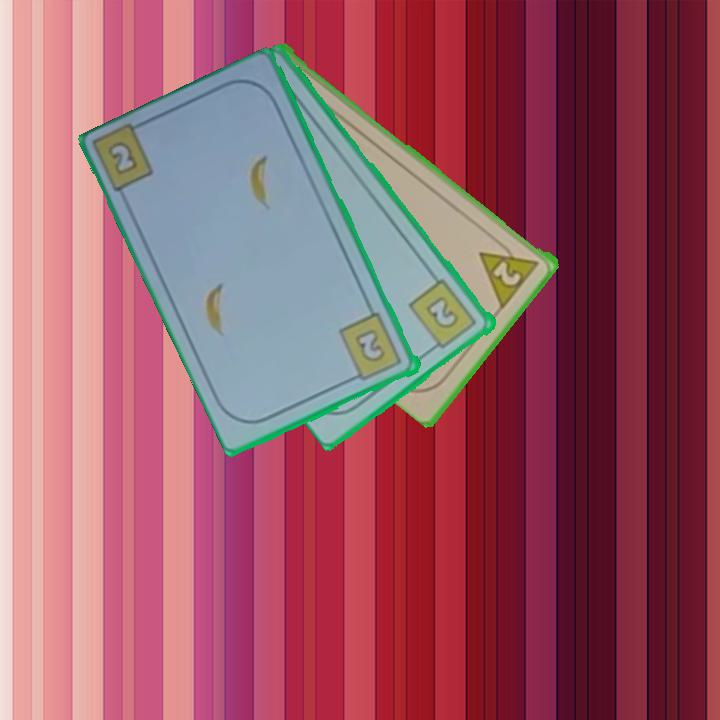2b: (406, 276, 481, 355), (336, 309, 406, 385), (104, 137, 142, 179)
2p: (476, 234, 542, 310)
